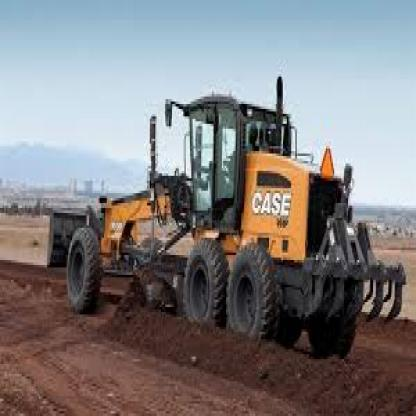bull_dozer/loader/grader: (54, 79, 406, 379)
